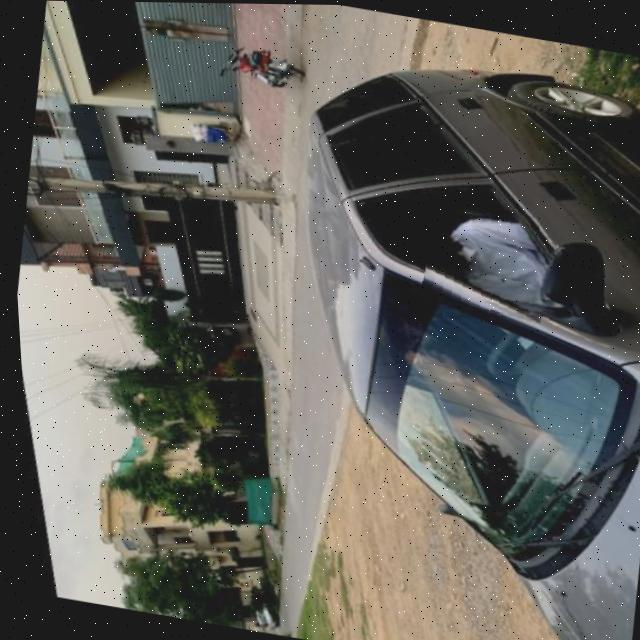no-seatbelt: (414, 192, 562, 320)
